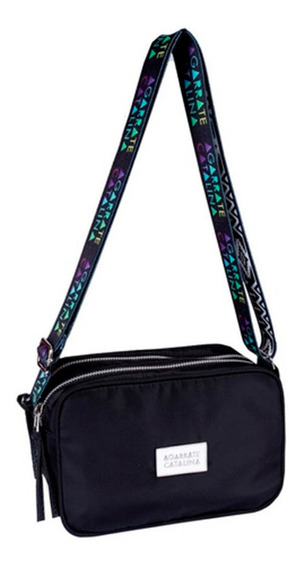cartera: (17, 27, 287, 537)
